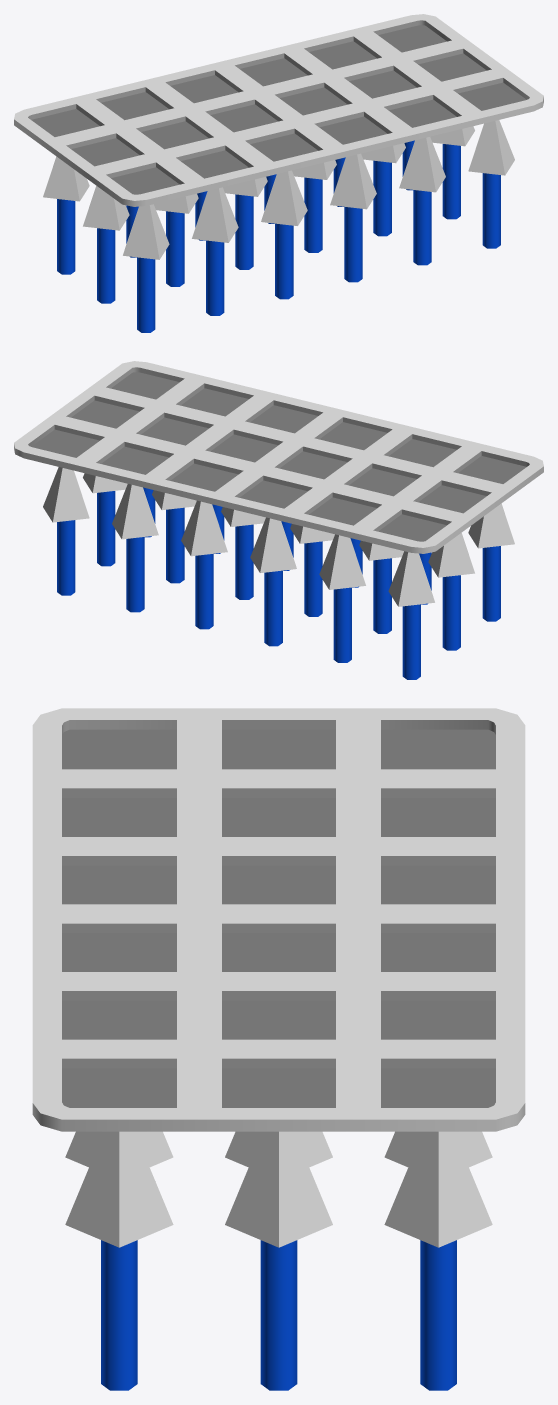
The model's file is Obstacle-19.fbx.
3 views of the same model, one above another, from view 1: azimuth 30°, elevation 25°; view 2: azimuth 150°, elevation 25°; view 3: azimuth 270°, elevation 25° (orthographic). The views are drawn at different scales.
Visible parts, largest first — view 1: spike ground, spike; view 2: spike ground, spike; view 3: spike ground, spike.
Part boxes in pixels (<box>): spike ground: <box>14,14,543,206</box>; spike: <box>43,120,514,332</box>; spike ground: <box>14,361,543,553</box>; spike: <box>43,467,514,679</box>; spike ground: <box>32,708,525,1131</box>; spike: <box>65,1131,492,1390</box>.
Bounding box in the file's own units: 366 × 125 × 185.
